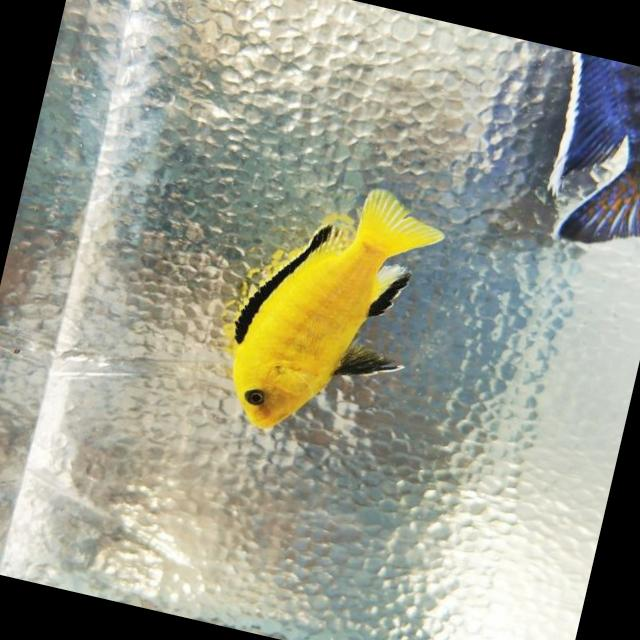YellowCichlid: (199, 142, 442, 456)
